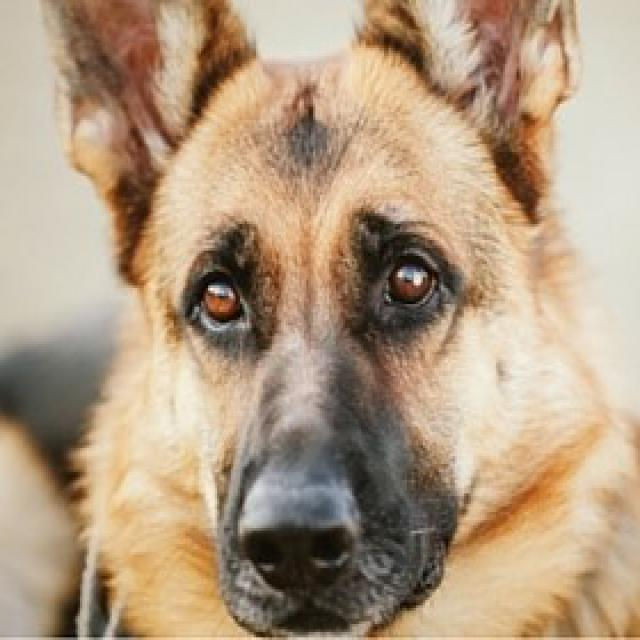eye: (375, 249, 447, 316), (188, 266, 254, 334)
